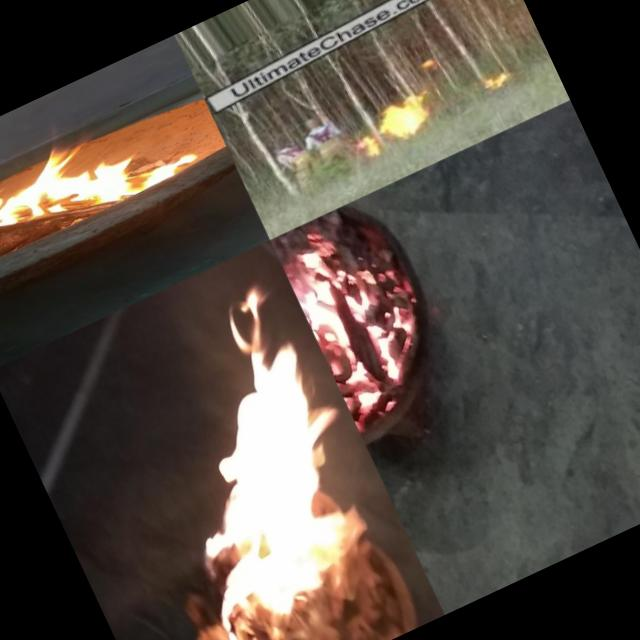fire: (91, 277, 439, 640), (270, 200, 446, 430), (0, 74, 199, 264), (352, 86, 442, 159), (476, 62, 511, 94)
